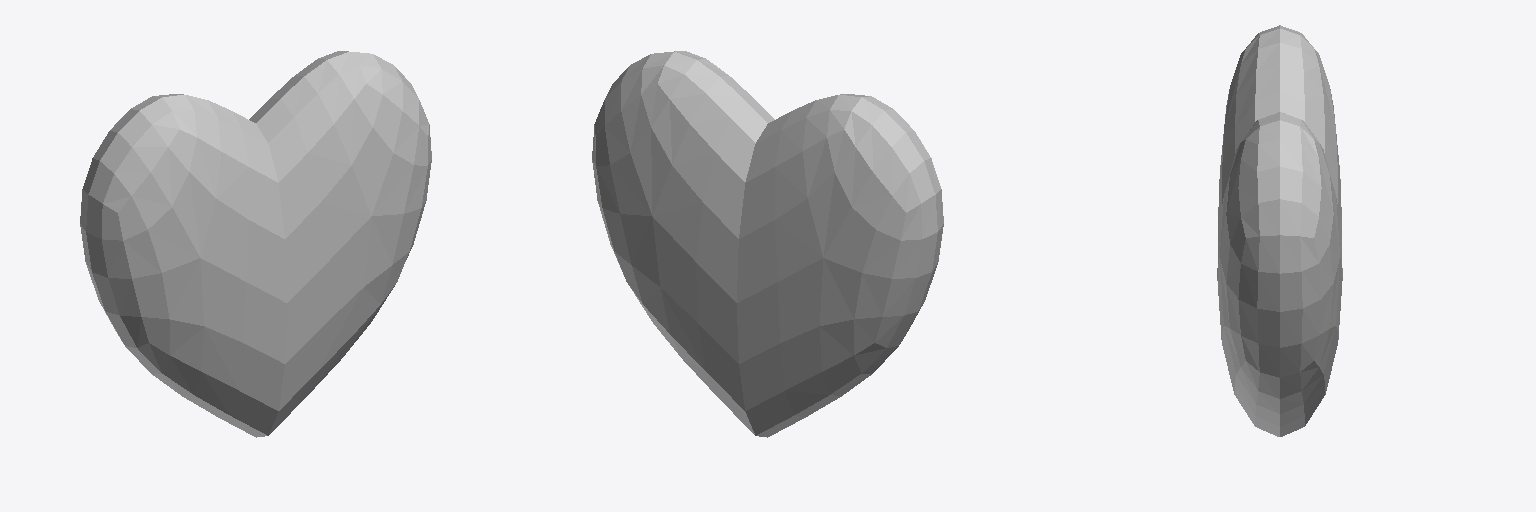
File: TTG Heart Model.obj
The picture shows the model from 3 angles: view 1: azimuth 30°, elevation 25°; view 2: azimuth 150°, elevation 25°; view 3: azimuth 270°, elevation 25°; orthographic projection.
Visible parts, largest first — view 1: Plane; view 2: Plane; view 3: Plane.
Part boxes in pixels (left/top/right/bottom): Plane: left=80, top=51, right=431, bottom=437; Plane: left=592, top=51, right=943, bottom=437; Plane: left=1217, top=25, right=1342, bottom=436.
Bounding box in the file's own units: 1.17 × 1.19 × 0.3718.